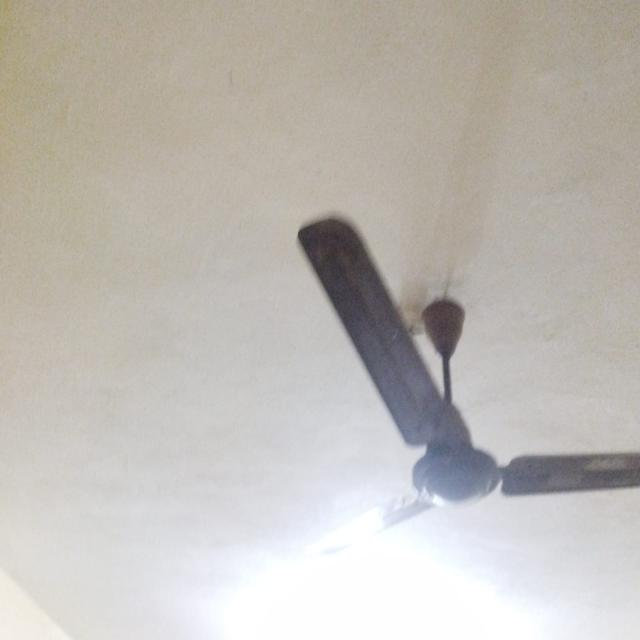fan_off: (298, 212, 640, 558)
